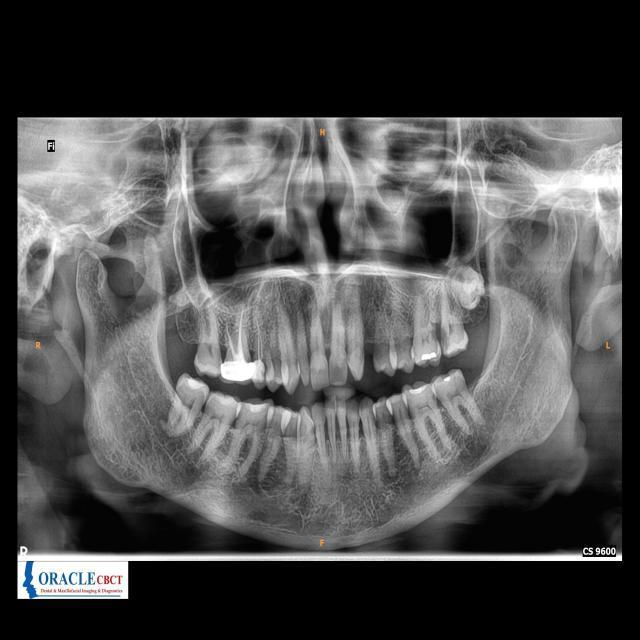dentin-curugu: (440, 323, 454, 354)
dolgu: (250, 356, 268, 384), (417, 347, 438, 362), (436, 373, 458, 387)
kanal-tedavisi: (225, 300, 248, 359), (252, 319, 268, 359)
kaplama: (220, 356, 255, 380)
